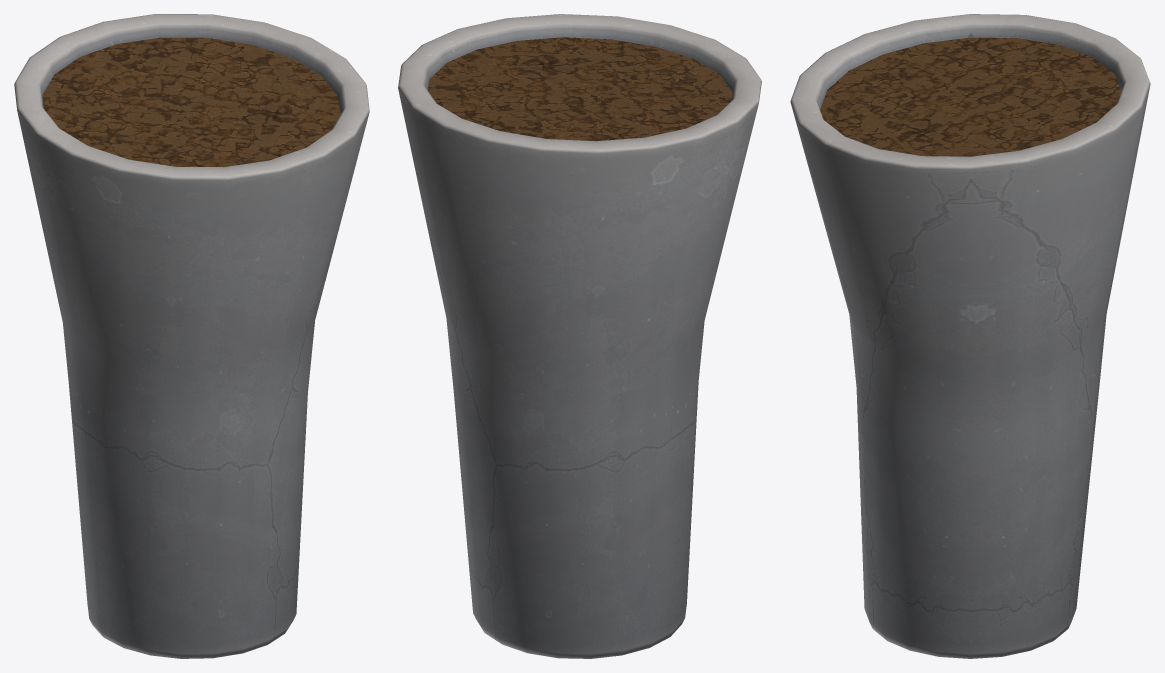
The model's file is StreetPlanter04_1.FBX.
3 views of the same model, side by side, from view 1: azimuth 30°, elevation 25°; view 2: azimuth 150°, elevation 25°; view 3: azimuth 270°, elevation 25° (orthographic). The views are drawn at different scales.
Visible parts, largest first — view 1: StreetPlanter04_1; view 2: StreetPlanter04_1; view 3: StreetPlanter04_1.
Part boxes in pixels (x1=…): StreetPlanter04_1: x1=14, y1=14, x2=369, y2=658; StreetPlanter04_1: x1=398, y1=14, x2=761, y2=658; StreetPlanter04_1: x1=790, y1=14, x2=1150, y2=658.
Size of what is drawn, in the model's own units: 0.5577 by 0.9155 by 0.5567.
